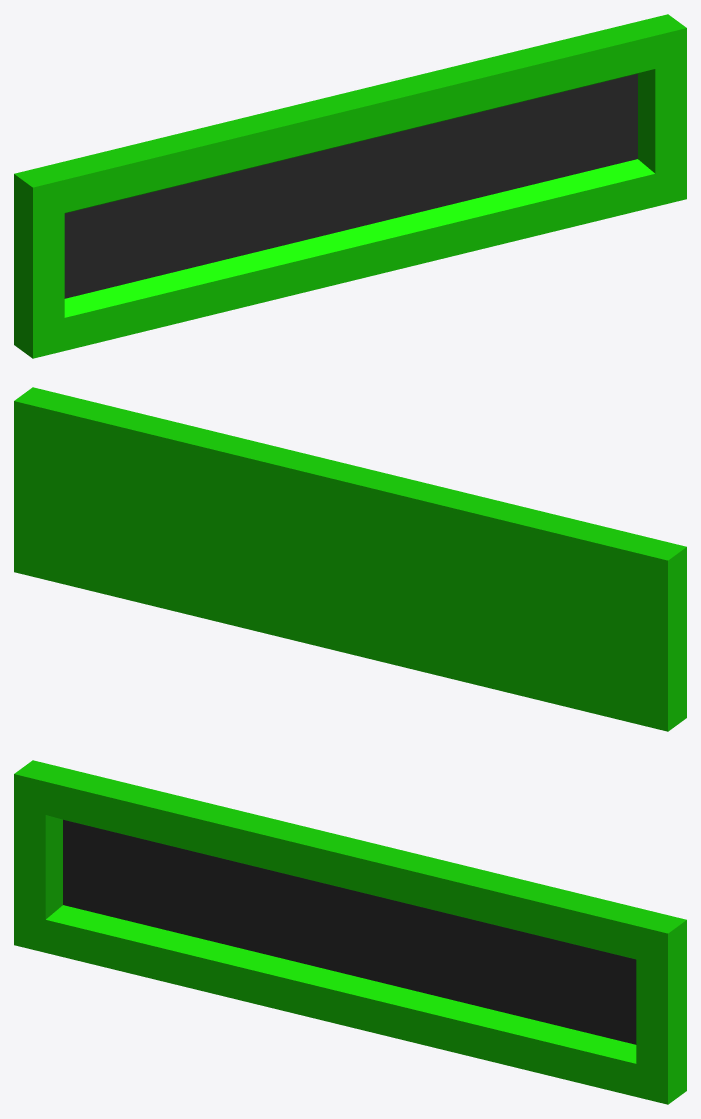
Rendered from D_FBX_09_Mover_Line.fbx.
The picture shows the model from 3 angles, top to bottom: view 1: azimuth 30°, elevation 25°; view 2: azimuth 150°, elevation 25°; view 3: azimuth 330°, elevation 25°; orthographic projection.
Parts seen in each view (by area): view 1: D_FBX_09_Mover_Line; view 2: D_FBX_09_Mover_Line; view 3: D_FBX_09_Mover_Line.
Boxes of the visible parts, x1=… form: D_FBX_09_Mover_Line: x1=14, y1=14, x2=686, y2=358; D_FBX_09_Mover_Line: x1=14, y1=387, x2=686, y2=731; D_FBX_09_Mover_Line: x1=14, y1=760, x2=686, y2=1104.
Bounding box in the file's own units: 200 × 50 × 10.
